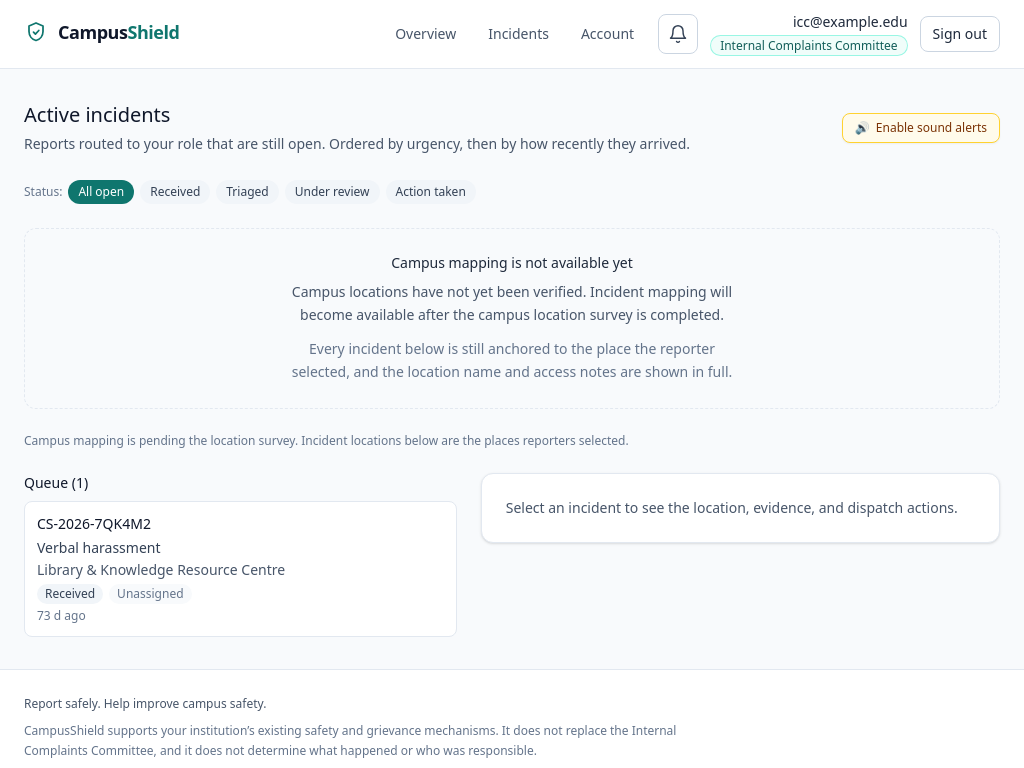
Scenario: IncidentsPage — incident detail › marks a synthetic destination as DEMO MODE in the "Where" section
The width and height of the screenshot is (1024, 768).
Click the button "CS-2026-7QK4M2" at (240, 569), box [24, 501, 457, 637]
(page scrolled)
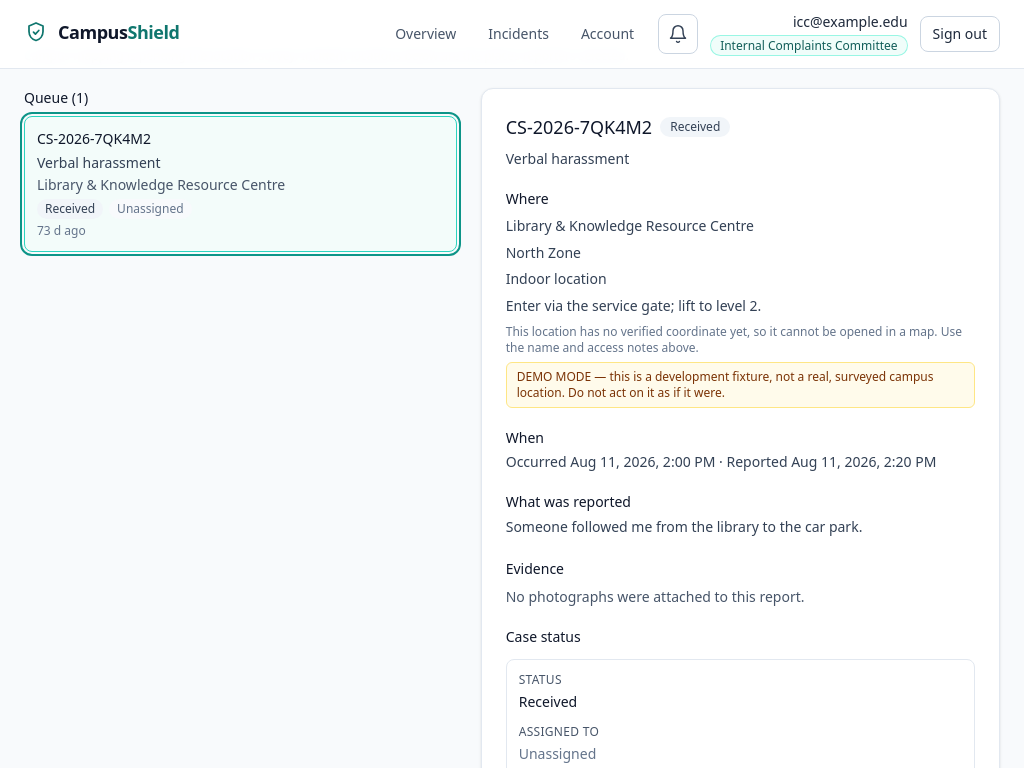
expect the text with test id "destination-demo-notice" shows "DEMO MODE": met, box [517, 368, 934, 401]
expect the text with test id "destination-demo-notice" shows "not a real, surveyed campus location": met, box [517, 368, 934, 401]
